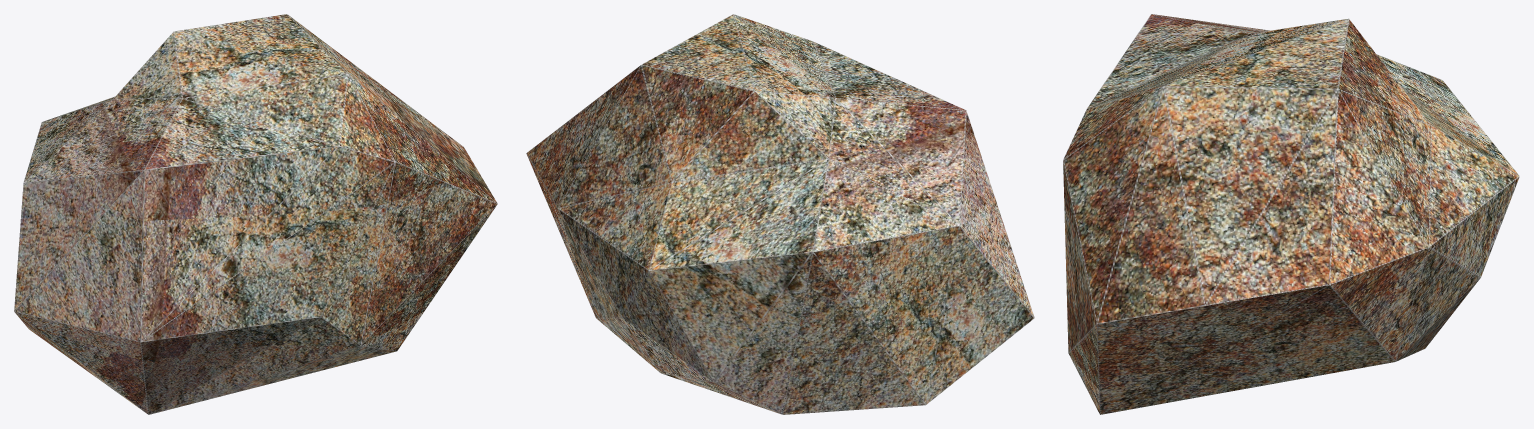
The model's file is Rock_2.fbx.
The picture shows the model from 3 angles, left to right: view 1: azimuth 30°, elevation 25°; view 2: azimuth 150°, elevation 25°; view 3: azimuth 270°, elevation 25°; orthographic projection. The views are drawn at different scales.
Parts seen in each view (by area): view 1: Rock_2; view 2: Rock_2; view 3: Rock_2.
Boxes of the visible parts, x1=… form: Rock_2: x1=14, y1=14, x2=497, y2=414; Rock_2: x1=526, y1=14, x2=1034, y2=414; Rock_2: x1=1063, y1=14, x2=1519, y2=414.
Bounding box in the file's own units: 18.86 × 12.74 × 14.21.
Materials: 1 (1 with a texture image).
